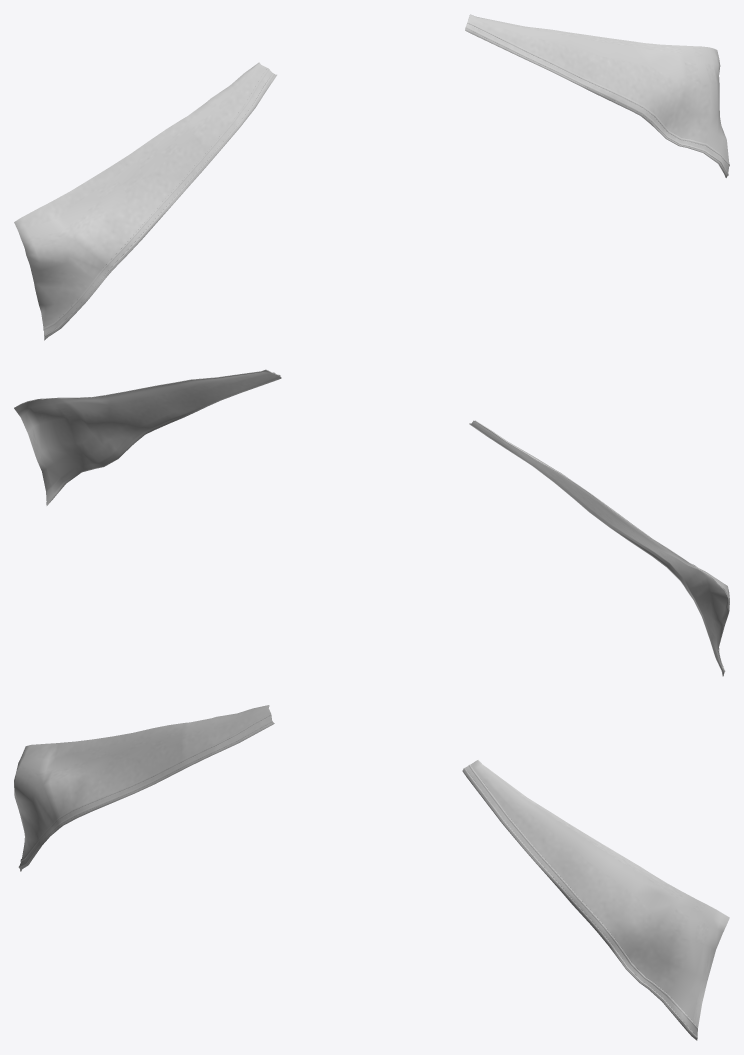
Rendered from Jac_Decor_TOP_FACE.glb.
3 renders of one model, top to bottom at view 1: azimuth 30°, elevation 25°; view 2: azimuth 150°, elevation 25°; view 3: azimuth 330°, elevation 25°, orthographic.
Parts seen in each view (by area): view 1: Jac_Decor_TOP_FACE1, Rope1; view 2: Jac_Decor_TOP_FACE1; view 3: Jac_Decor_TOP_FACE1, Rope1.
Part boxes in pixels (x1,y1,x2,y2): Jac_Decor_TOP_FACE1: (14, 14, 729, 340); Rope1: (43, 21, 729, 337); Jac_Decor_TOP_FACE1: (14, 369, 729, 676); Jac_Decor_TOP_FACE1: (14, 705, 729, 1040); Rope1: (18, 713, 697, 1038).
Bounding box in the file's own units: 0.7451 × 0.2133 × 0.0609.
Materials: 2 (2 with a texture image).
